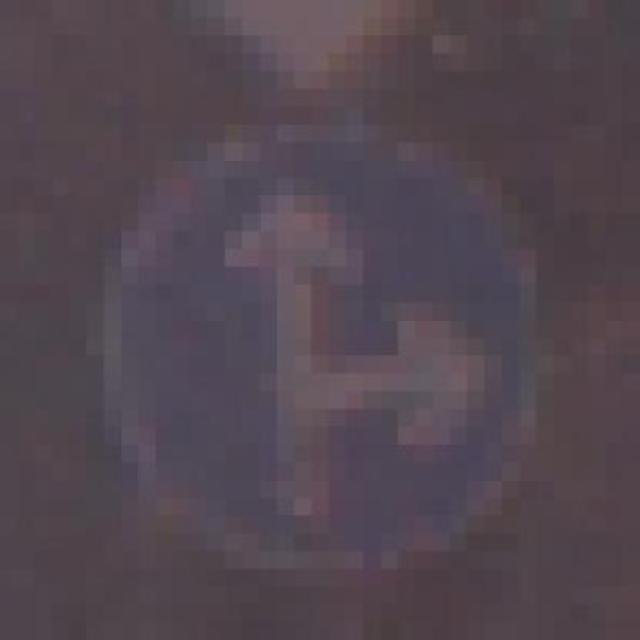Go Straight or Turn Right: (86, 124, 571, 587)
